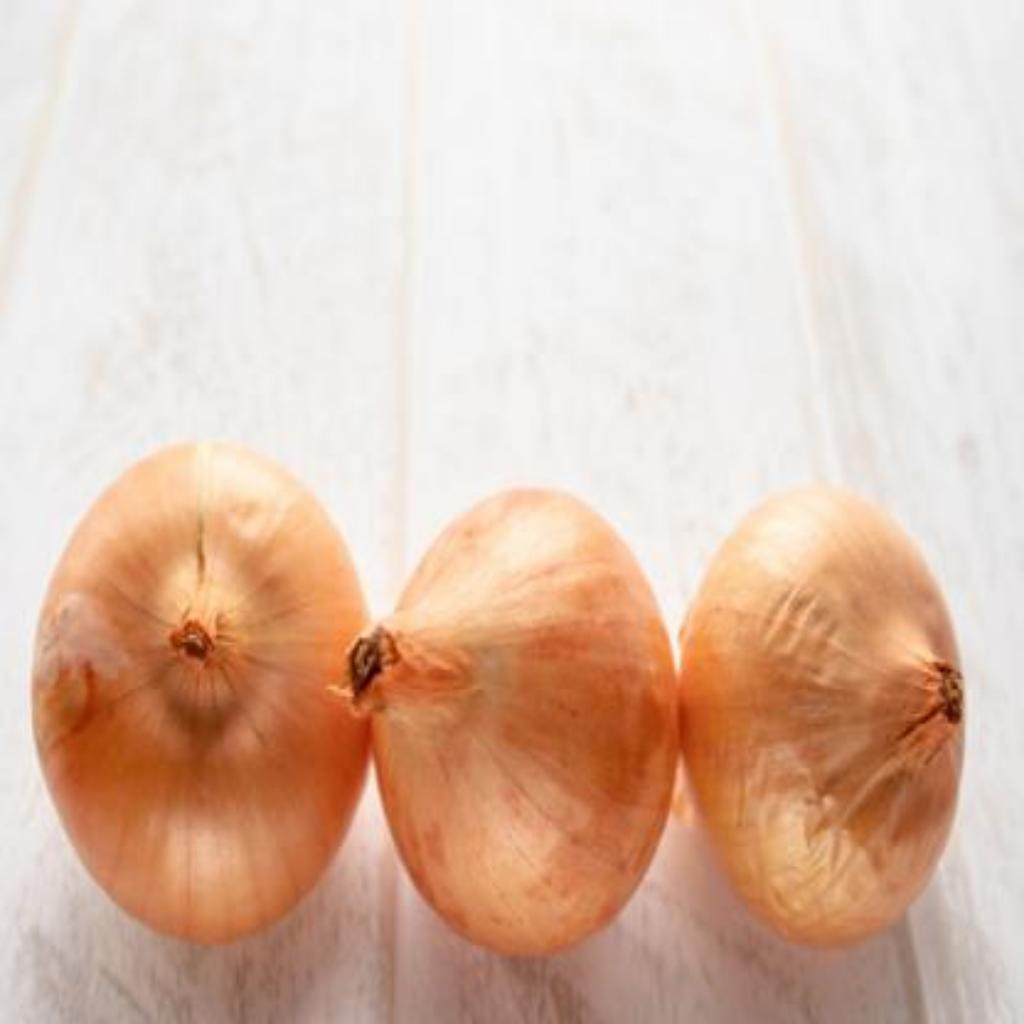Onion: (32, 443, 372, 944), (350, 490, 679, 956), (684, 487, 967, 946)
